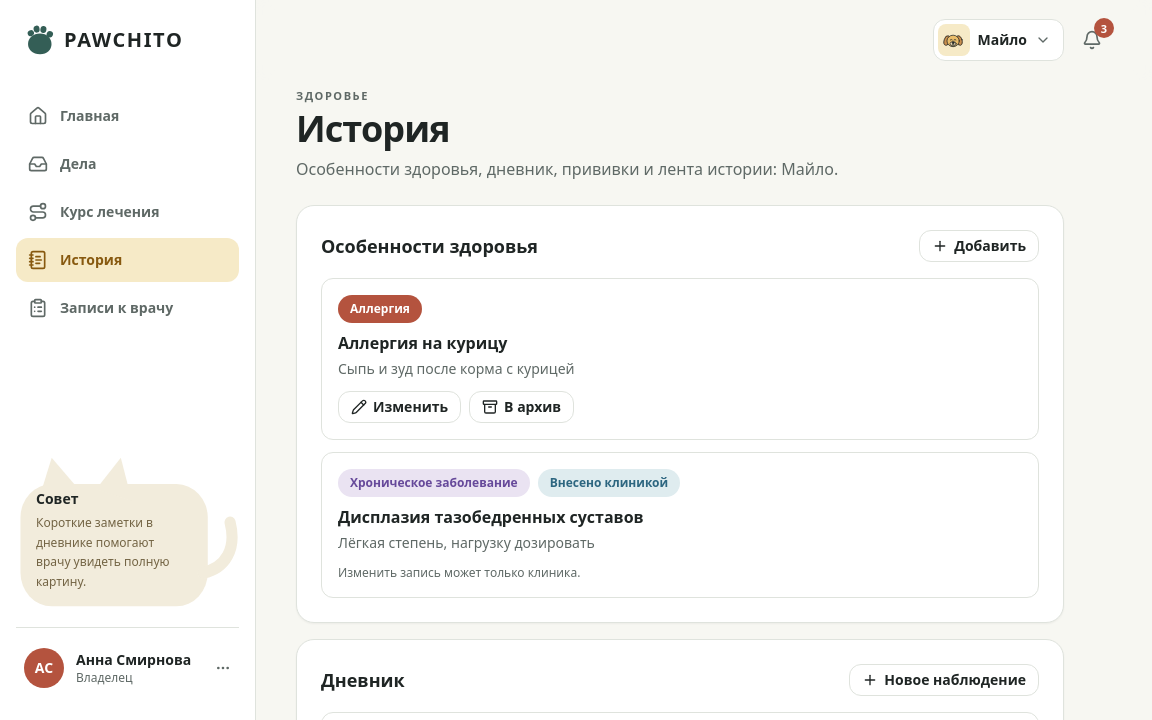
Test: HistoryPage › смена питомца в переключателе — записи другого питомца; просроченная прививка отмечена
Expected: the element "Аллергия на курицу" is shown, x1=321 y1=278 x2=1039 y2=440
Click the button with aria-label "Питомец: Майло" at (998, 40), box x1=933 y1=19 x2=1064 y2=61
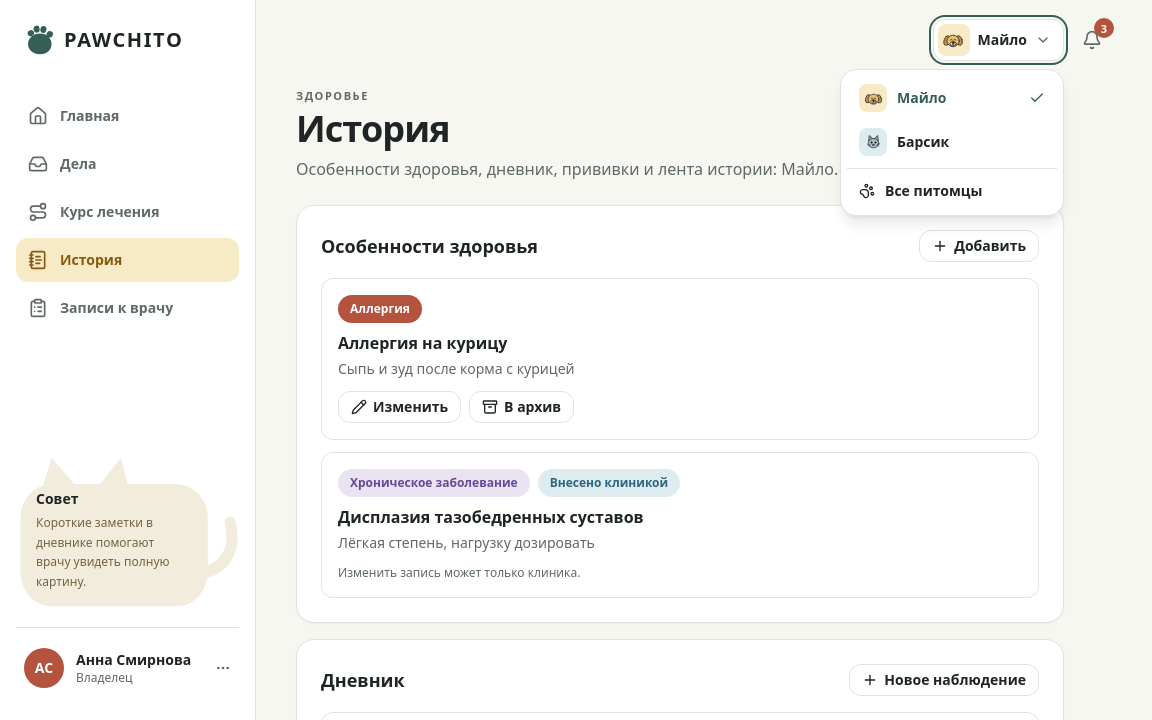
Click the button "Барсик" at (952, 142), box x1=847 y1=120 x2=1057 y2=164
(page scrolled)
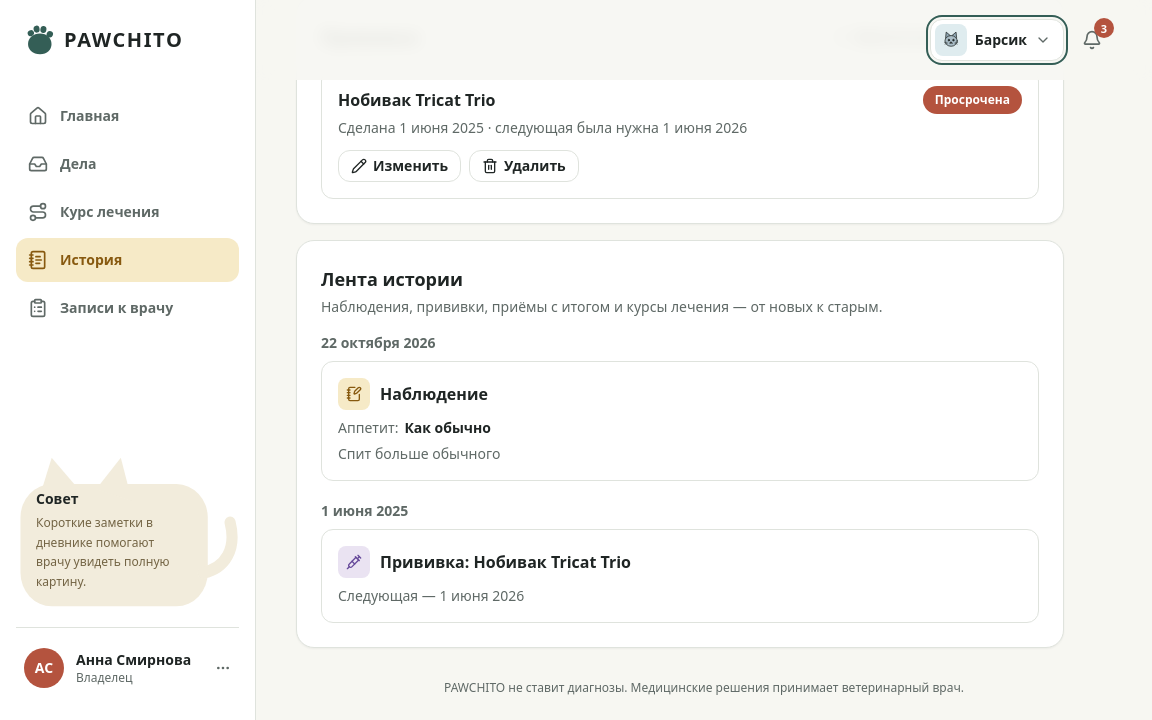
Expected: the text "Просрочена" is shown, x1=923 y1=86 x2=1022 y2=114
Expected: the element named "Прививка: Нобивак Tricat Trio 1 июня 2025" is shown, x1=321 y1=528 x2=1039 y2=622
